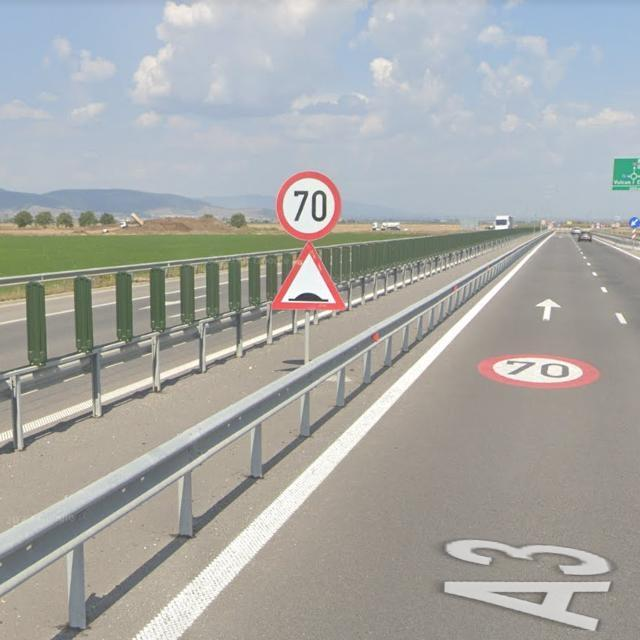forb_speed_over_70: (478, 352, 603, 391), (275, 171, 342, 240)
